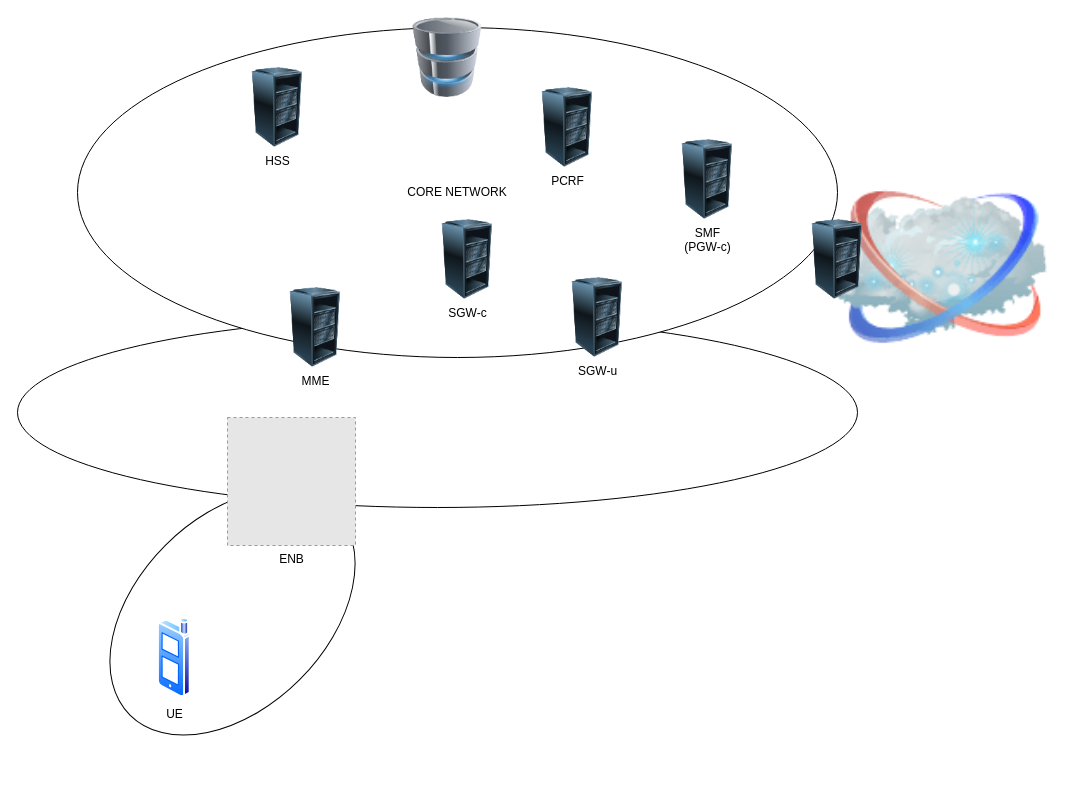
This 1065x800 diagram has some shape labels left out. Grey dashed boxes stand in for pictures. The box of each missing label's shape, as (x1, y1, x2, y2) in pixels:
Air network (zmq): (62, 442, 402, 782)
FRONTIER network: (16, 316, 858, 508)
Mongo DB: (407, 17, 487, 97)
UPF (PGW-u): (797, 219, 877, 299)
